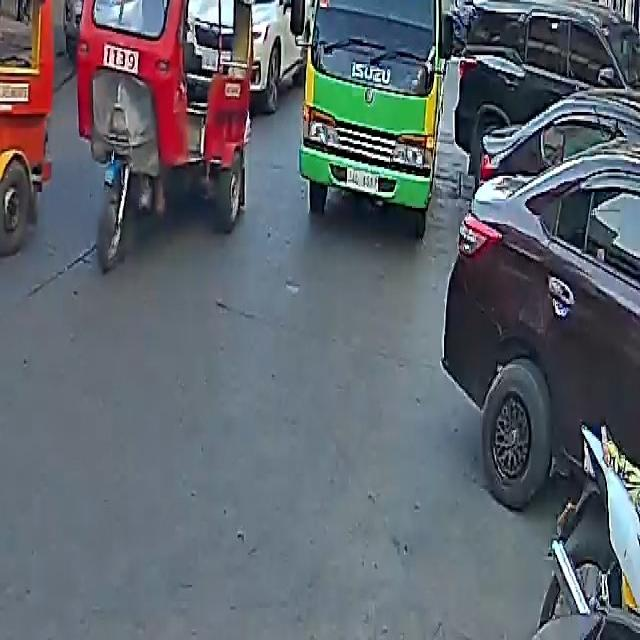car: (443, 85, 640, 524), (454, 0, 639, 185), (227, 0, 310, 107)
